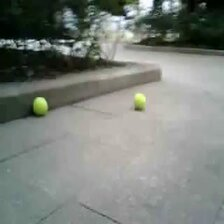tennis: (33, 97, 49, 115), (134, 93, 146, 108)
